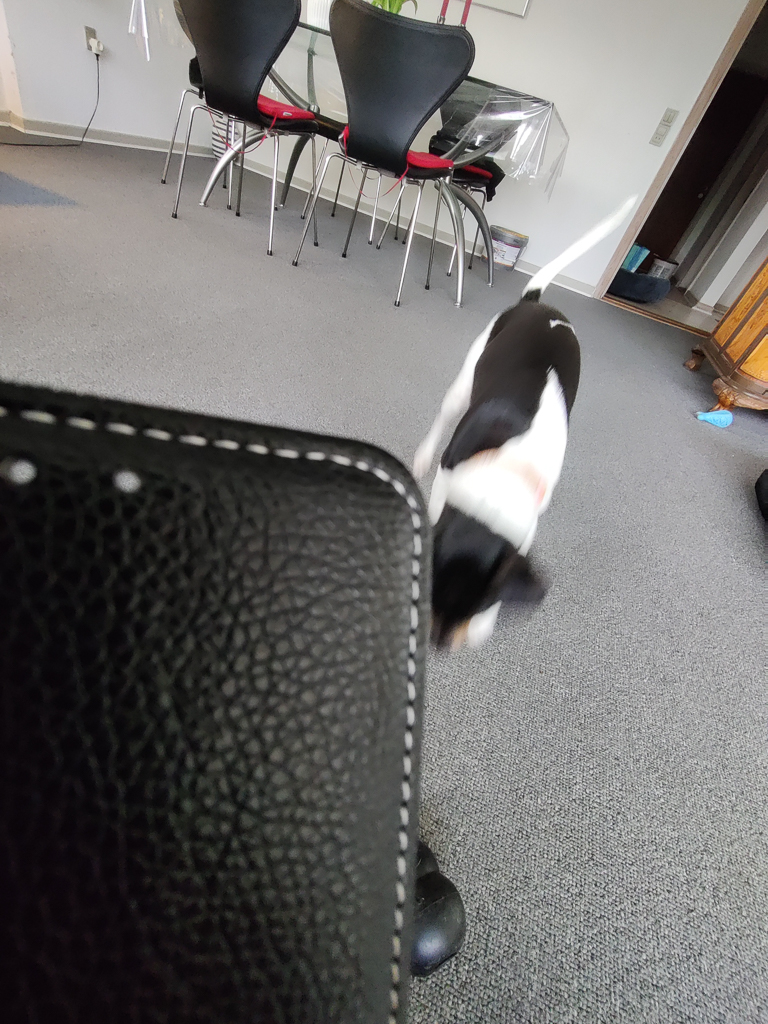Dog: (375, 180, 653, 691)
